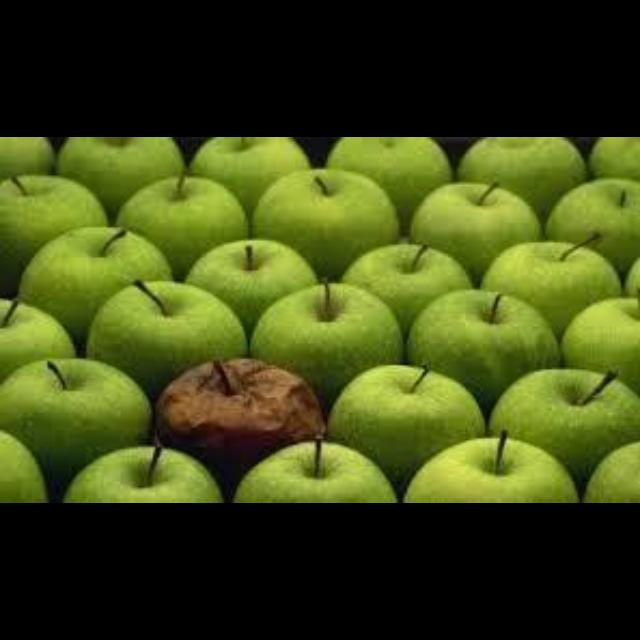rotten: (0, 359, 151, 488)
